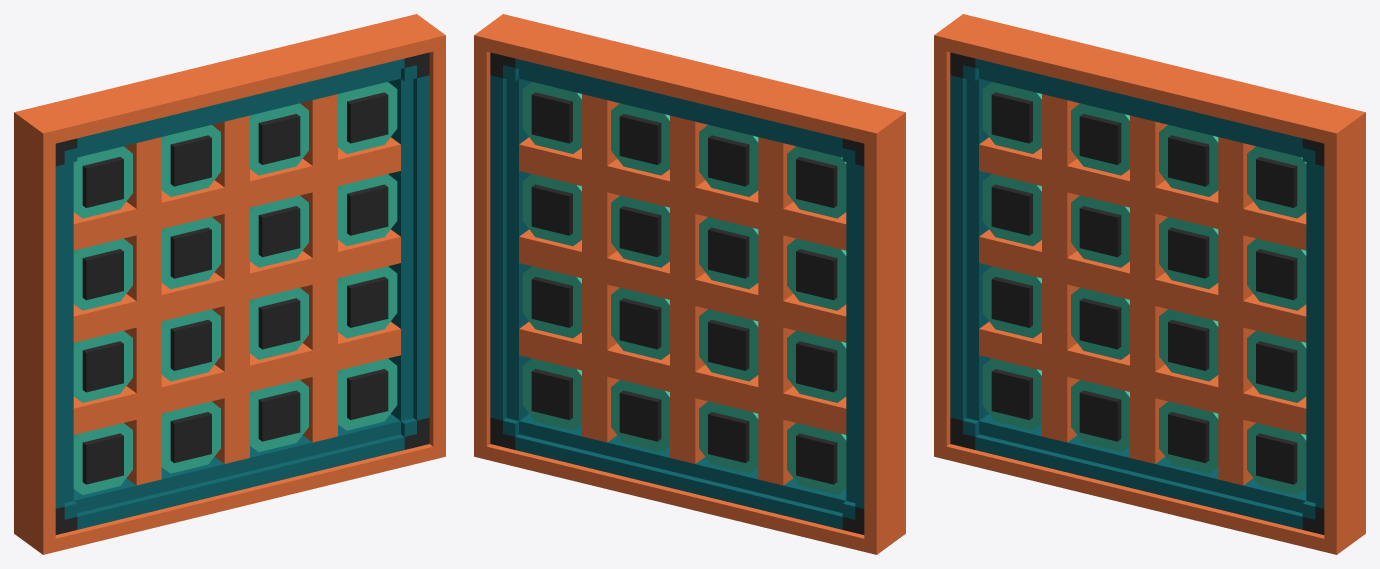
File: Inventory Panel.fbx
The picture shows the model from 3 angles, left to right: view 1: azimuth 30°, elevation 25°; view 2: azimuth 150°, elevation 25°; view 3: azimuth 330°, elevation 25°; orthographic projection.
Visible parts, largest first — view 1: generated; view 2: generated; view 3: generated.
Boxes of the visible parts, <box> form: generated: <box>14,14,445,554</box>; generated: <box>474,14,905,554</box>; generated: <box>934,14,1365,554</box>.
Size of the model in its own units: 320 by 320 by 40.
